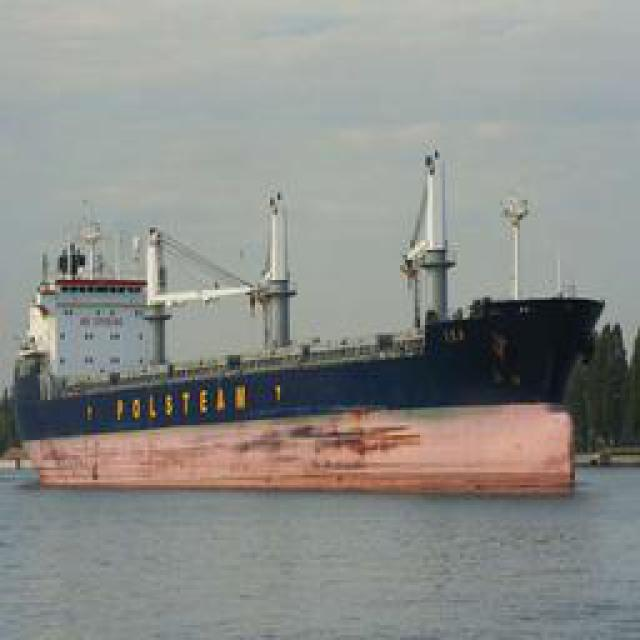Ship: (19, 145, 609, 465)
